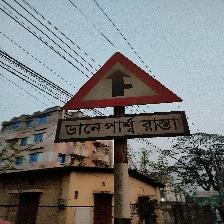Side-road-right: (57, 52, 189, 144)
